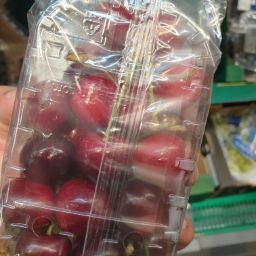Cherry: (5, 186, 169, 256), (68, 139, 184, 223), (104, 1, 210, 84), (7, 153, 99, 244), (105, 66, 197, 150), (53, 13, 121, 126), (31, 89, 114, 179)
